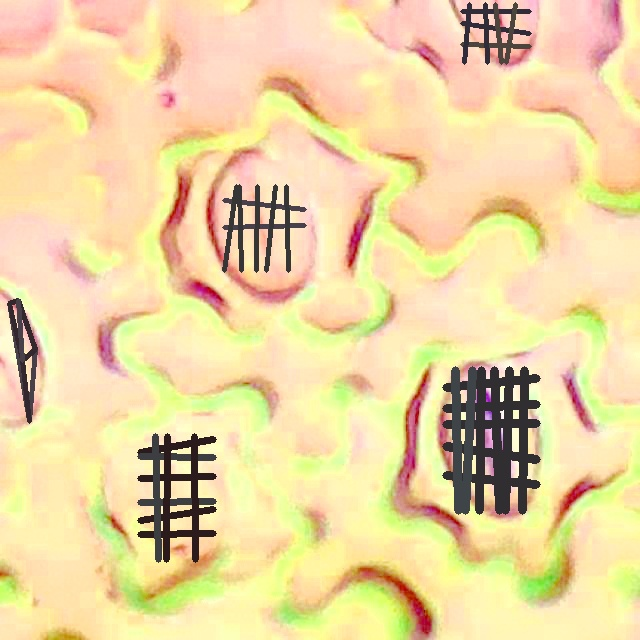close: (137, 433, 216, 562), (223, 184, 306, 272), (460, 2, 531, 64), (7, 298, 37, 423)
open: (443, 367, 540, 513)
